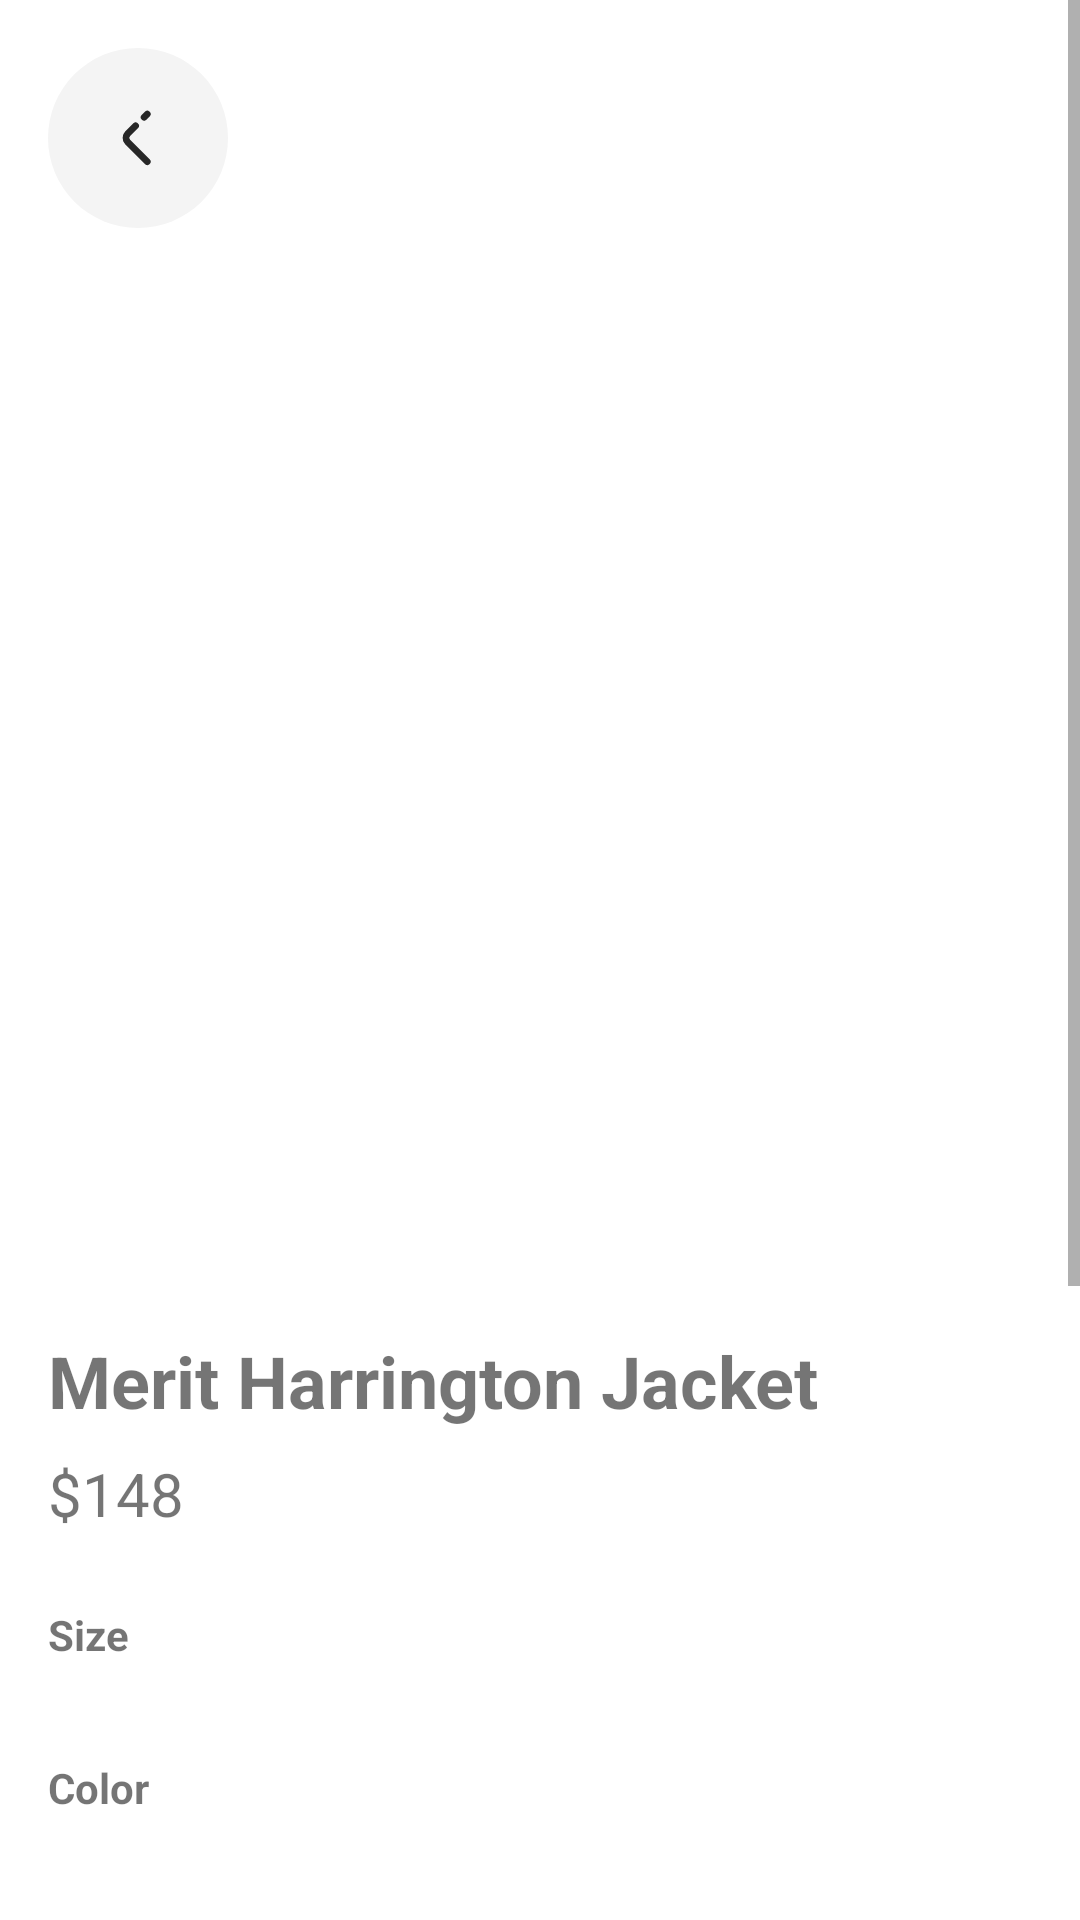

Screen size 1080px×1920px. Icon name, then its box in pixels as region(x1, y1, x2, y2):
arrow back: region(48, 48, 228, 228)
